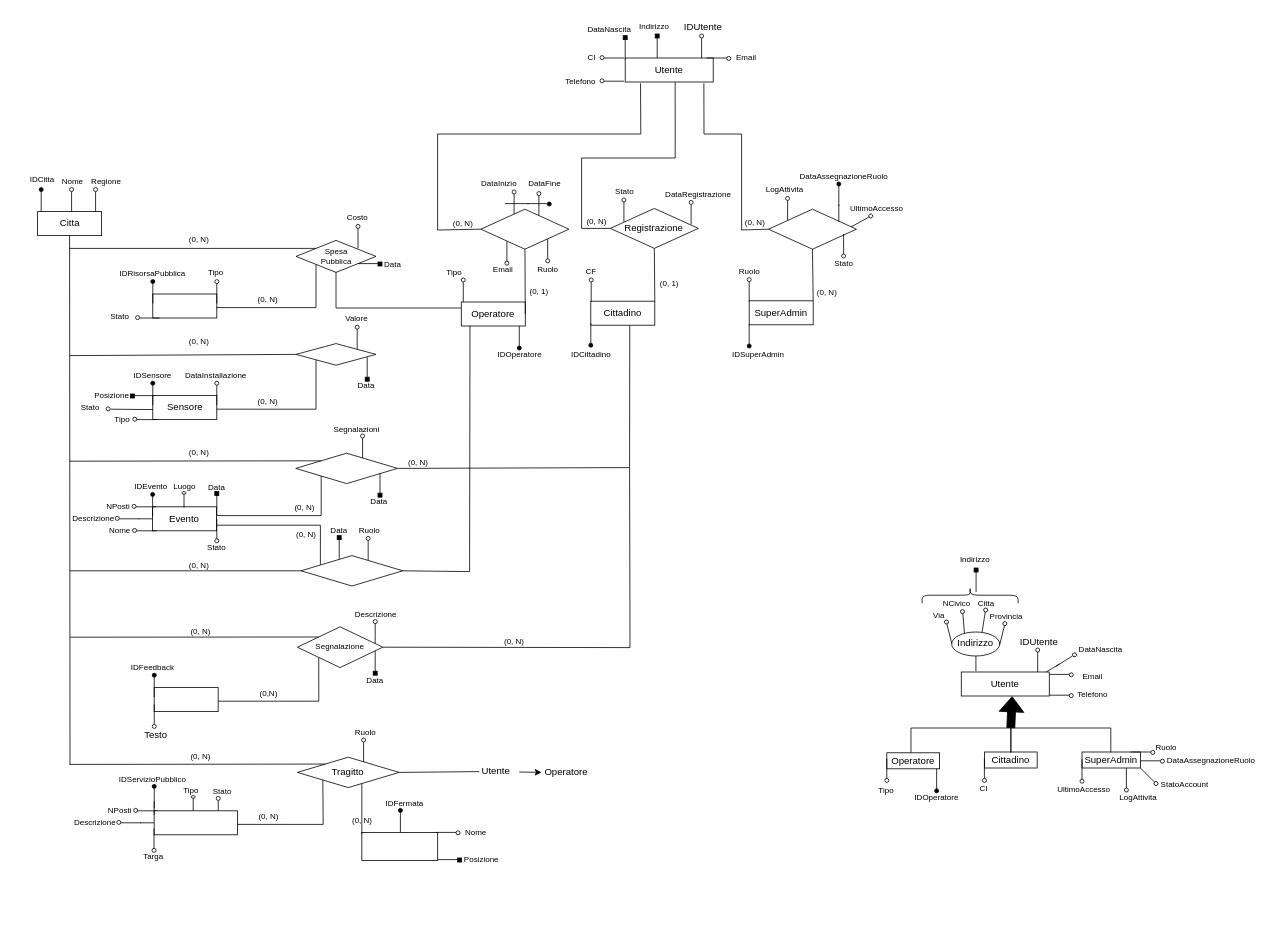
The diagram is 1277 pixels wide and 938 high, and some of its shapes have lost their labels. The shapes that lost their labels are listed below. From the top down, each one's box as (x1, y1, x2, y2) in pixels, then its label:
(480, 208, 569, 249): Professione
(768, 208, 856, 249): Controllo
(152, 293, 217, 318): Risorsa Pubblica
(295, 343, 376, 365): Dato
(295, 452, 398, 484): Partecipaizione
(300, 555, 403, 586): Creazione
(153, 687, 218, 712): Feedback
(153, 810, 238, 835): ServizioPubblico
(361, 832, 438, 860): Fermata
